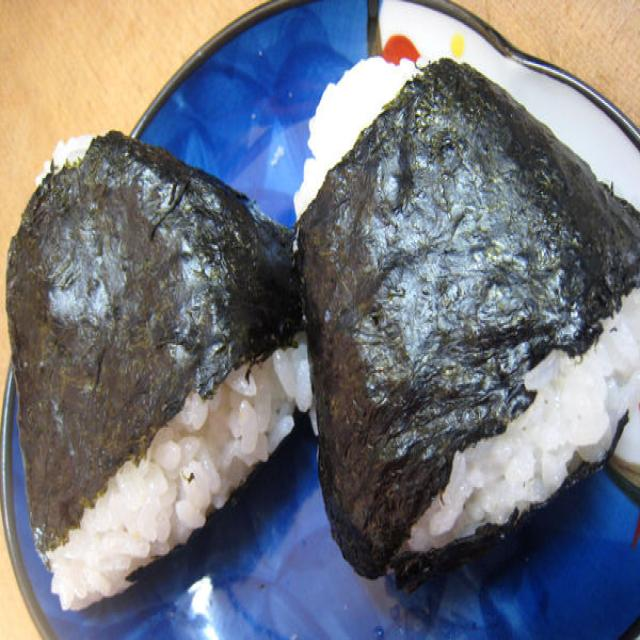米饭主食: (284, 11, 638, 599), (2, 120, 314, 631)
